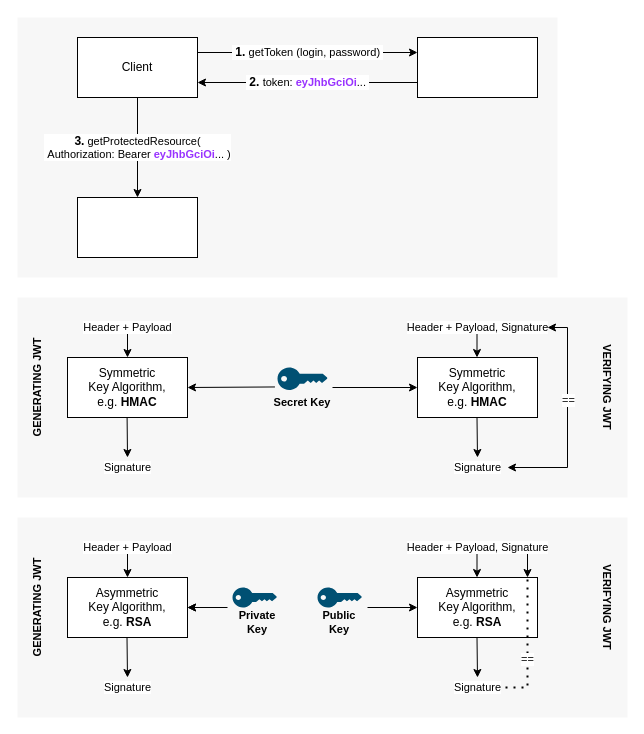
This 644x734 diagram has some shape labels left out. The box of each missing label's shape, as (x1, y1, x2, y2) in pixels:
API: (76, 196, 198, 258)
Authorization Server: (416, 36, 538, 98)
